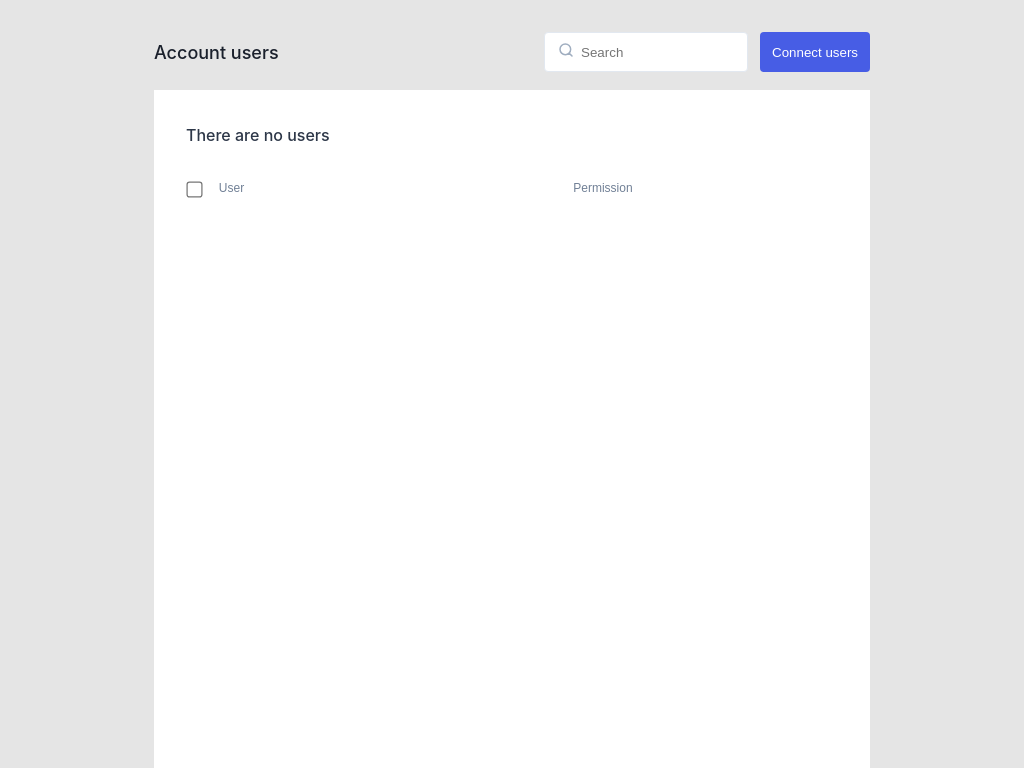
Home page has required elements and functionality › focusing on search input shows the tooltip text
Step 1. Click the field with placeholder "Search" → (646, 52), box top-left (544, 32), bottom-right (748, 72)
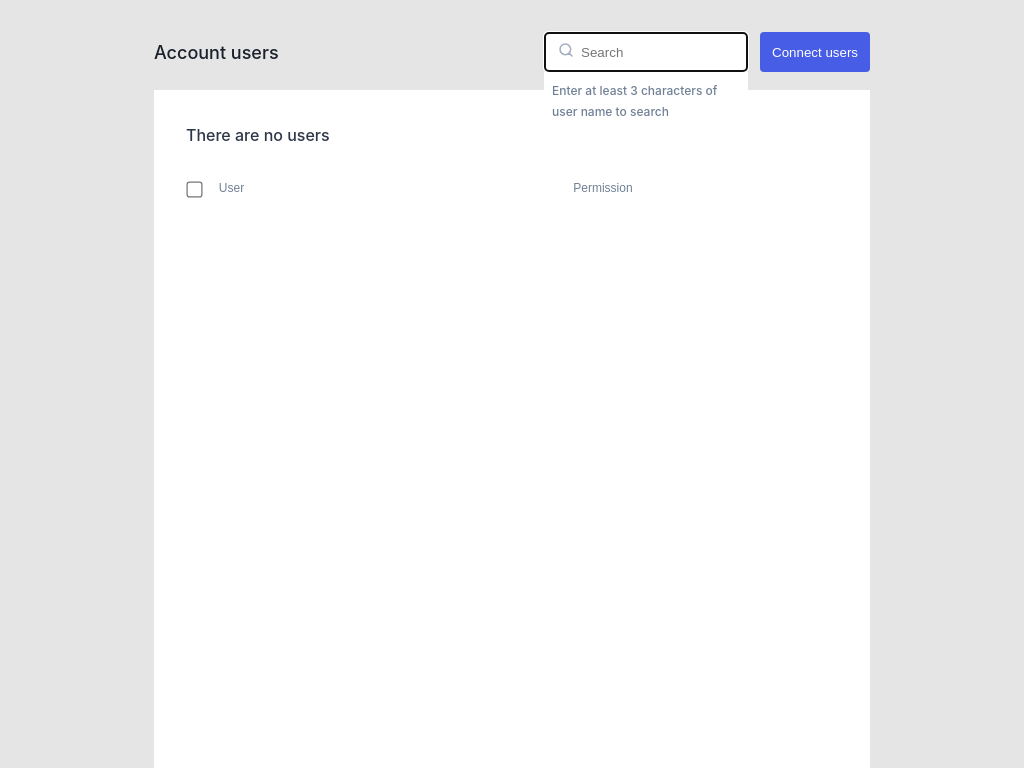
Now the text "Enter at least 3 characters of user name to search" is shown, box top-left (544, 72), bottom-right (748, 130)
